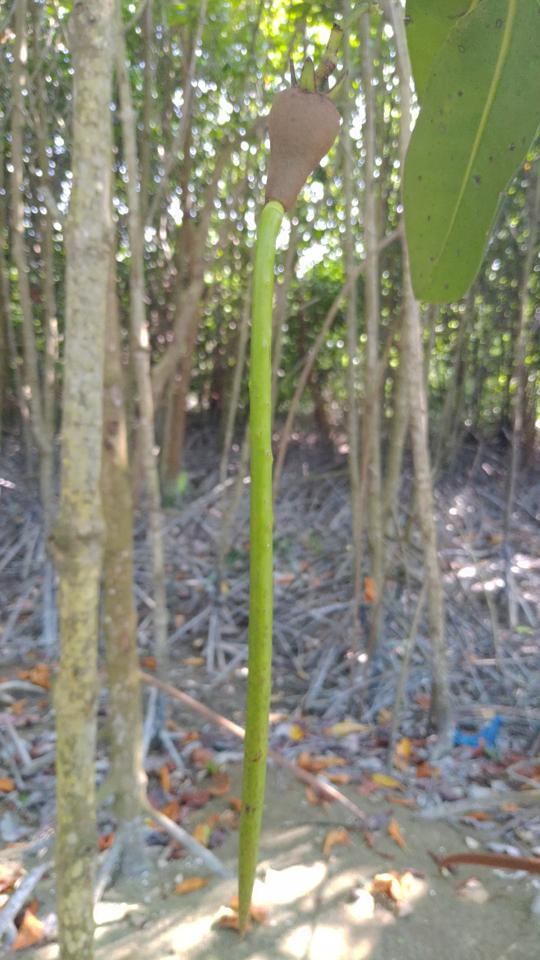setengah matang: (224, 52, 360, 944)
